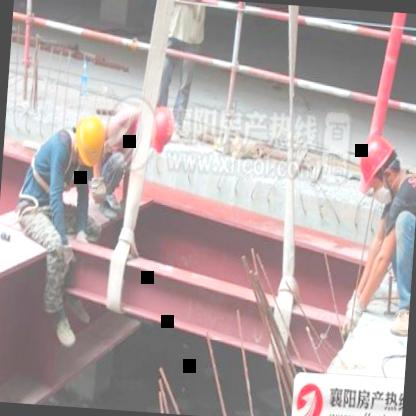helmet: (352, 124, 409, 202), (68, 108, 113, 174), (148, 106, 178, 158)
